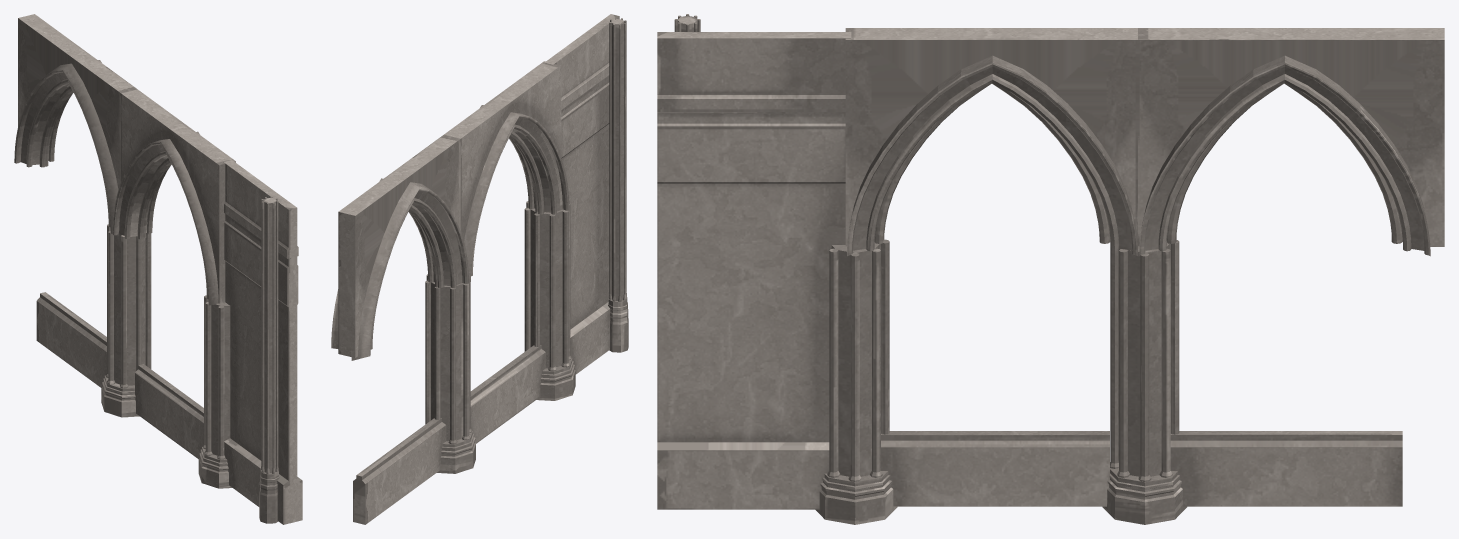
3 renders of one model, left to right at view 1: azimuth 30°, elevation 25°; view 2: azimuth 150°, elevation 25°; view 3: azimuth 270°, elevation 25°, orthographic. The views are drawn at different scales.
Visible parts, largest first — view 1: Wall_01.003, Cube.017, Cube.016, Cylinder.008, Cylinder.012, Cylinder.007, Wall_01.005, Wall_01.004; view 2: Cube.016, Wall_01.003, Cube.017, Cylinder.007, Cylinder.008, Cylinder.012, Wall_01.005, Wall_01.004; view 3: Wall_01.003, Cube.016, Cube.017, Cylinder.008, Wall_01.005, Cylinder.007, Wall_01.004.
Part boxes in pixels (x1,y1,x2,y2): Wall_01.003: [223, 160, 302, 524]; Cube.017: [112, 89, 235, 305]; Cube.016: [14, 14, 137, 235]; Cylinder.008: [101, 224, 151, 417]; Cylinder.012: [259, 196, 279, 523]; Cylinder.007: [198, 295, 232, 488]; Wall_01.005: [36, 292, 106, 387]; Wall_01.004: [135, 364, 203, 458]; Cube.016: [331, 135, 468, 360]; Wall_01.003: [544, 14, 619, 374]; Cube.017: [444, 61, 569, 282]; Cylinder.007: [524, 201, 575, 400]; Cylinder.008: [425, 274, 475, 473]; Cylinder.012: [608, 18, 628, 352]; Wall_01.005: [353, 418, 446, 524]; Wall_01.004: [470, 345, 545, 443]; Wall_01.003: [657, 32, 851, 509]; Cube.016: [1138, 28, 1444, 256]; Cube.017: [845, 28, 1139, 256]; Cylinder.008: [1102, 240, 1186, 524]; Wall_01.005: [1170, 431, 1402, 506]; Cylinder.007: [815, 239, 897, 524]; Wall_01.004: [881, 431, 1109, 506].
Bounding box in the file's own units: 146 × 902 × 1346.
